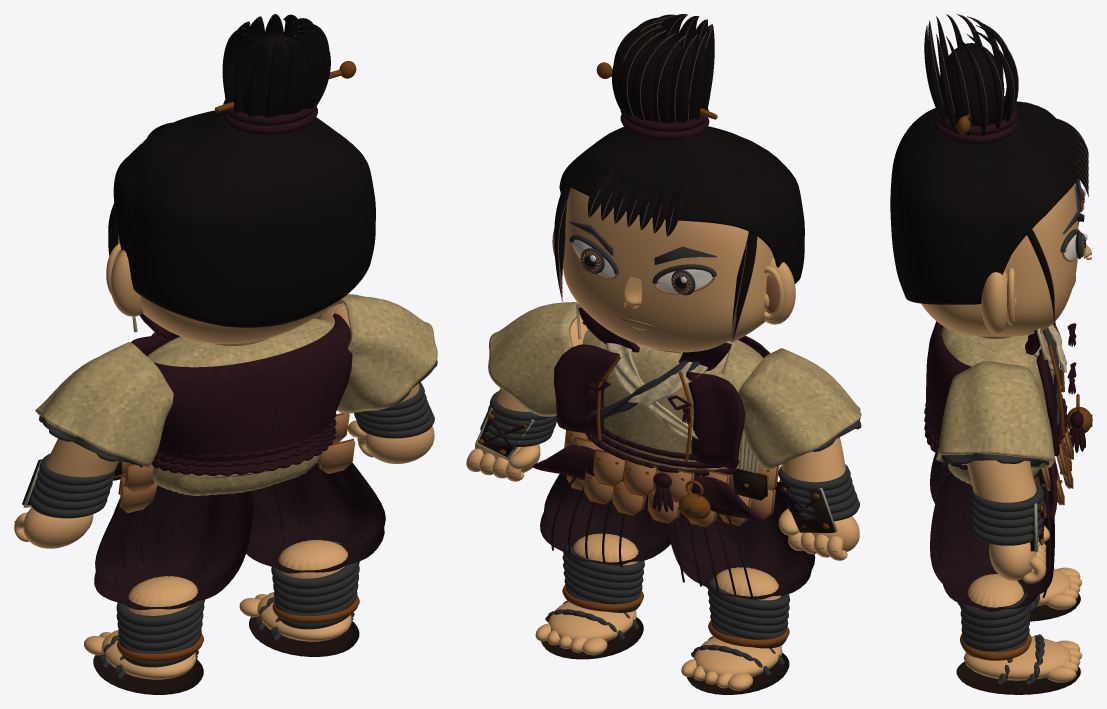
File: kuren.glb
3 renders of one model, left to right at view 1: azimuth 30°, elevation 25°; view 2: azimuth 150°, elevation 25°; view 3: azimuth 270°, elevation 25°, orthographic. The views are drawn at different scales.
Parts seen in each view (by area): view 1: Kuren__Fitted_scalp, Kuren__Outer_jacket_back, Kuren__Trousers_-1, Kuren__Kimono_sleeve_-1, Kuren__Trousers_1, Kuren__Kimono_sleeve_1, Kuren__Under_kimono, Kuren__Face_sculpt_cage, Kuren__Calf_-1, Kuren__Calf_1, Kuren__Palm_-1, Kuren__Sandal_sole_-1 (+35 smaller); view 2: Kuren__Face_sculpt_cage, Kuren__Fitted_scalp, Kuren__Kimono_sleeve_-1, Kuren__Trousers_-1, Kuren__Under_kimono, Kuren__Kimono_sleeve_1, Kuren__Trousers_1, Kuren__Open_jacket_front_-1, Kuren__Open_jacket_front_1, Kuren__Foot_1, Kuren__Foot_-1, Kuren__Arm_anatomy_-1 (+42 smaller); view 3: Kuren__Fitted_scalp, Kuren__Kimono_sleeve_1, Kuren__Face_sculpt_cage, Kuren__Trousers_1, Kuren__Under_kimono, Kuren__Topknot_core, Kuren__Arm_anatomy_1, Kuren__Outer_jacket_back, Kuren__Foot_1, Kuren__Sandal_sole_1, Kuren__Calf_1, Kuren__Ear_1 (+34 smaller).
Boxes of the visible parts, <box> form: Kuren__Fitted_scalp: <box>113,110,375,327</box>; Kuren__Outer_jacket_back: <box>154,313,352,461</box>; Kuren__Trousers_-1: <box>94,485,253,609</box>; Kuren__Kimono_sleeve_-1: <box>35,342,173,467</box>; Kuren__Trousers_1: <box>229,453,385,573</box>; Kuren__Kimono_sleeve_1: <box>314,294,437,413</box>; Kuren__Under_kimono: <box>147,318,334,495</box>; Kuren__Face_sculpt_cage: <box>118,235,337,344</box>; Kuren__Calf_-1: <box>126,576,197,615</box>; Kuren__Calf_1: <box>278,540,347,578</box>; Kuren__Palm_-1: <box>23,507,93,548</box>; Kuren__Sandal_sole_-1: <box>93,655,203,694</box>; Kuren__Face_sculpt_cage: <box>563,187,773,352</box>; Kuren__Fitted_scalp: <box>559,126,804,283</box>; Kuren__Kimono_sleeve_-1: <box>738,348,861,469</box>; Kuren__Trousers_-1: <box>667,481,815,599</box>; Kuren__Under_kimono: <box>582,329,763,473</box>; Kuren__Kimono_sleeve_1: <box>488,302,579,416</box>; Kuren__Trousers_1: <box>540,474,683,565</box>; Kuren__Open_jacket_front_-1: <box>686,372,745,469</box>; Kuren__Open_jacket_front_1: <box>553,344,619,436</box>; Kuren__Foot_1: <box>548,601,636,641</box>; Kuren__Foot_-1: <box>694,637,782,676</box>; Kuren__Arm_anatomy_-1: <box>781,437,845,482</box>; Kuren__Fitted_scalp: <box>890,101,1077,304</box>; Kuren__Kimono_sleeve_1: <box>936,361,1055,468</box>; Kuren__Face_sculpt_cage: <box>921,184,1078,336</box>; Kuren__Trousers_1: <box>930,472,1054,611</box>; Kuren__Under_kimono: <box>941,326,1053,485</box>; Kuren__Topknot_core: <box>938,43,1004,125</box>; Kuren__Arm_anatomy_1: <box>967,460,1036,502</box>; Kuren__Outer_jacket_back: <box>926,321,971,437</box>; Kuren__Foot_1: <box>963,636,1071,680</box>; Kuren__Sandal_sole_1: <box>956,661,1080,694</box>; Kuren__Calf_1: <box>967,574,1023,608</box>; Kuren__Ear_1: <box>980,270,1007,333</box>.
Size of the model in its own units: 1.97 by 2.99 by 0.8818.
Materials: 19 (8 with a texture image).
